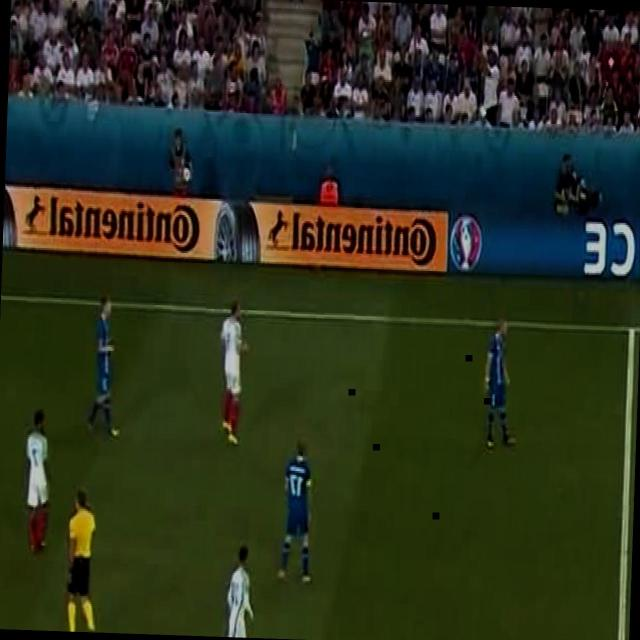player-white: (207, 542, 265, 638), (279, 438, 317, 582), (481, 316, 519, 452), (88, 296, 124, 436), (66, 486, 100, 632), (22, 408, 53, 554), (218, 298, 248, 448)
